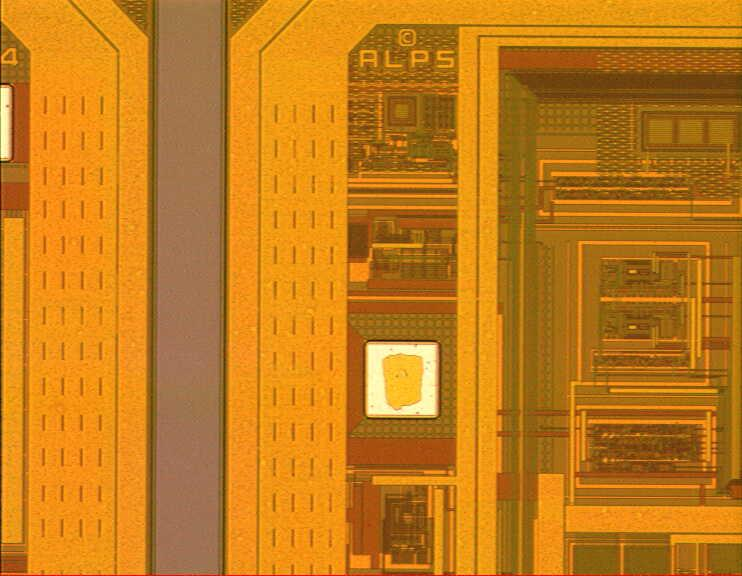BLOCK ETCH: (366, 343, 443, 419)
